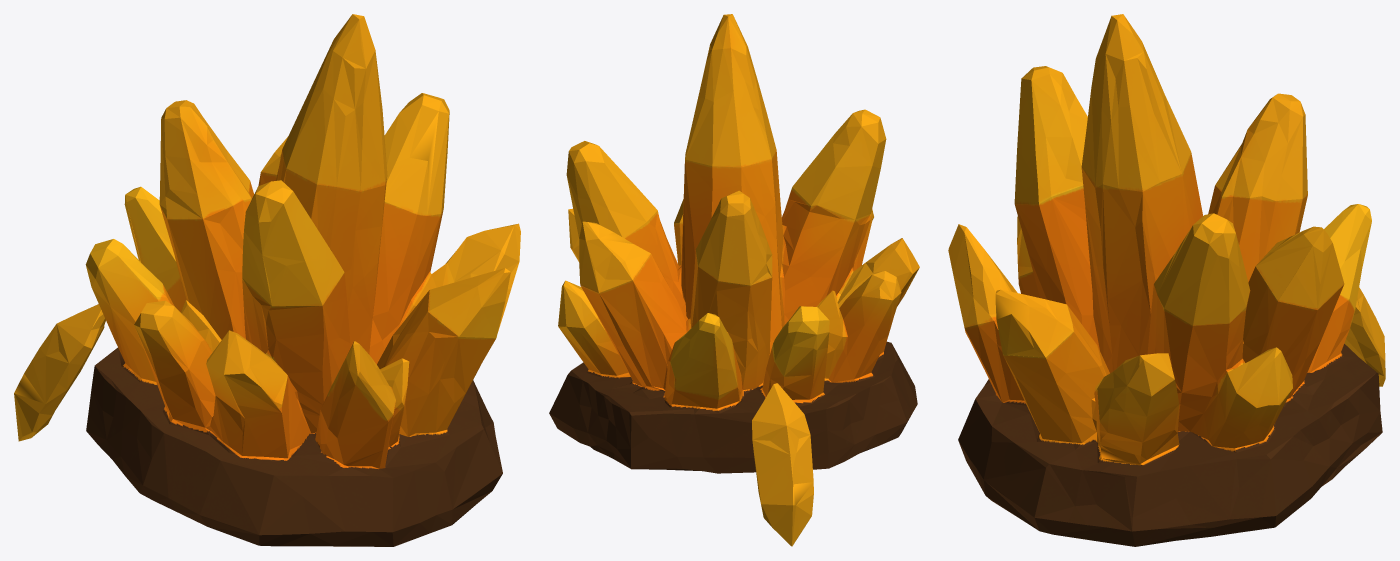
Rendered from crystal_orange.fbx.
3 renders of one model, left to right at view 1: azimuth 30°, elevation 25°; view 2: azimuth 150°, elevation 25°; view 3: azimuth 270°, elevation 25°, orthographic. The views are drawn at different scales.
Visible parts, largest first — view 1: Mesh_0; view 2: Mesh_0; view 3: Mesh_0.
Boxes of the visible parts, <box> form: Mesh_0: <box>14,14,520,546</box>; Mesh_0: <box>549,14,919,546</box>; Mesh_0: <box>948,14,1385,546</box>.
Size of the model in its own units: 0.8529 by 1 by 0.8391.
Materials: 1 (1 with a texture image).
